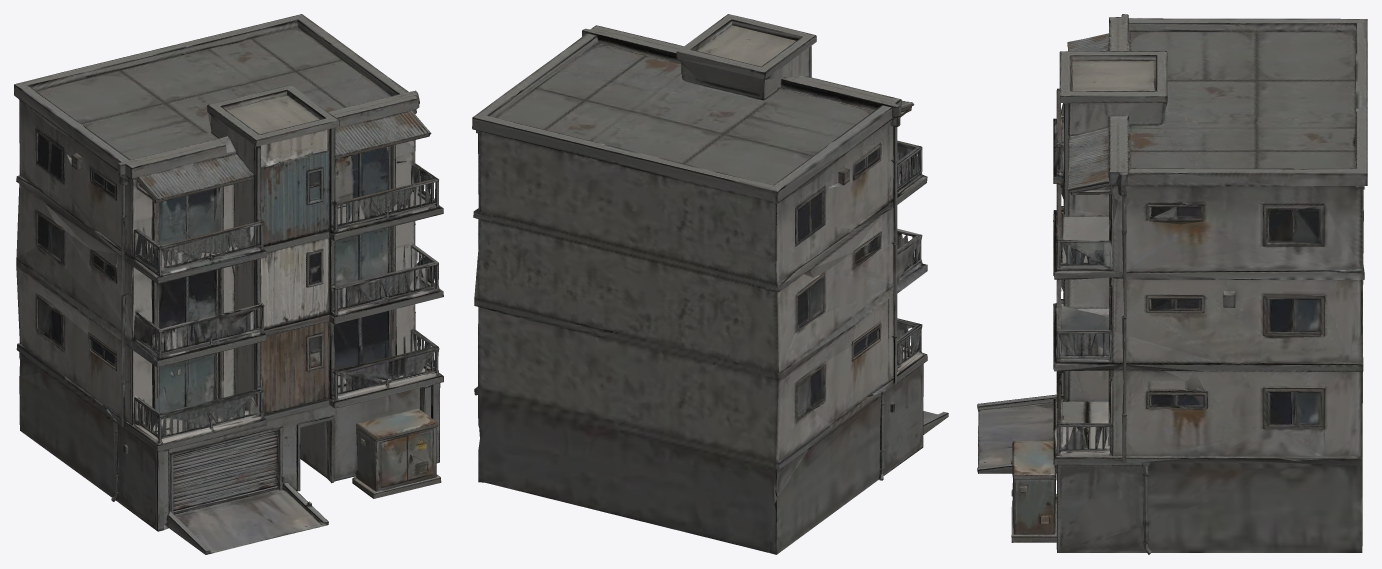
Rendered from apartment_block.glb.
3 views of the same model, side by side, from view 1: azimuth 30°, elevation 25°; view 2: azimuth 150°, elevation 25°; view 3: azimuth 270°, elevation 25° (orthographic). The views are drawn at different scales.
Size of the model in its own units: 1.63 by 1.9 by 1.67.
Materials: 1 (1 with a texture image).
